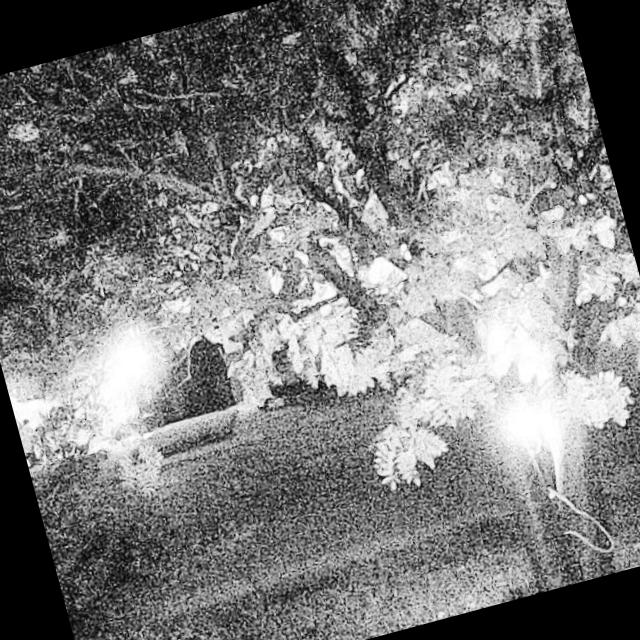Tree: (198, 0, 640, 639)
